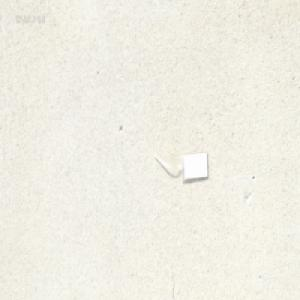LuggageTag: (154, 150, 208, 182)
